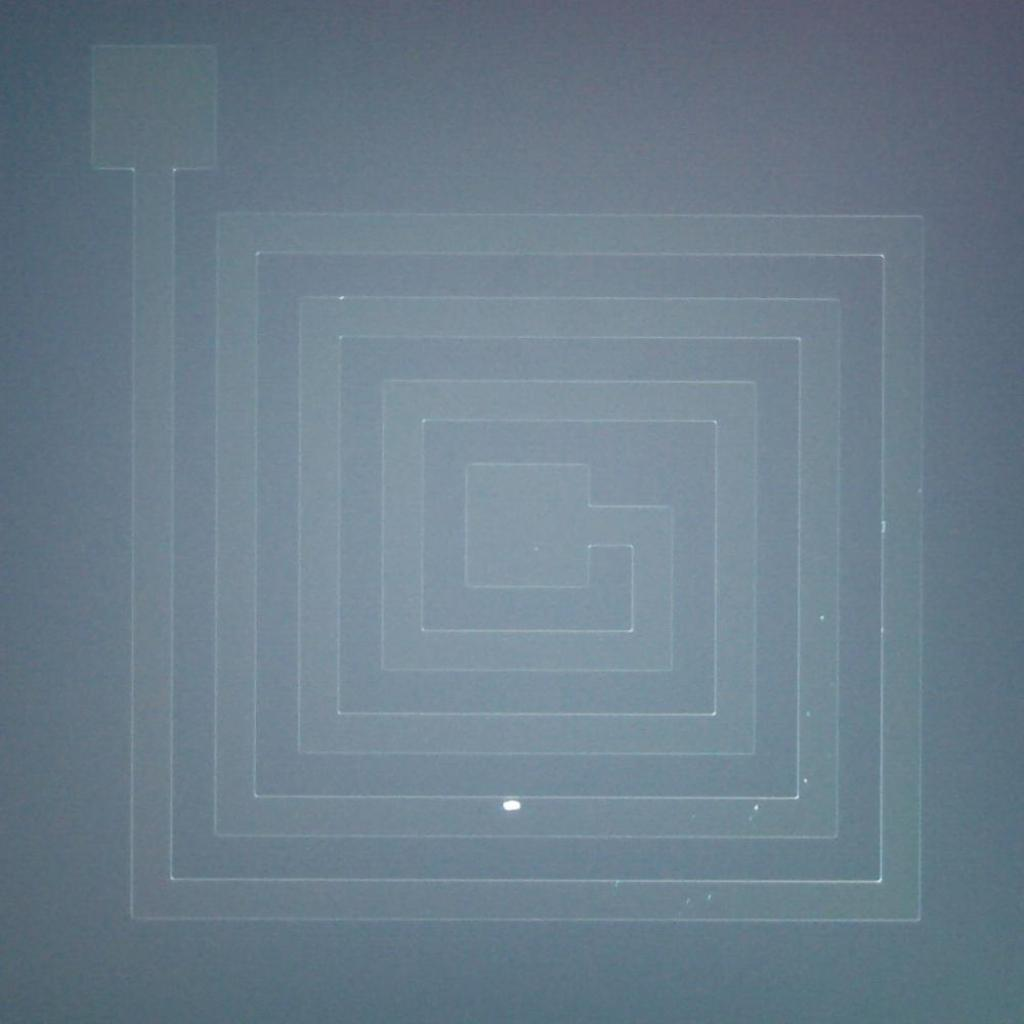dot: (503, 799, 521, 816), (820, 616, 824, 620), (804, 778, 808, 782), (754, 806, 758, 810)
